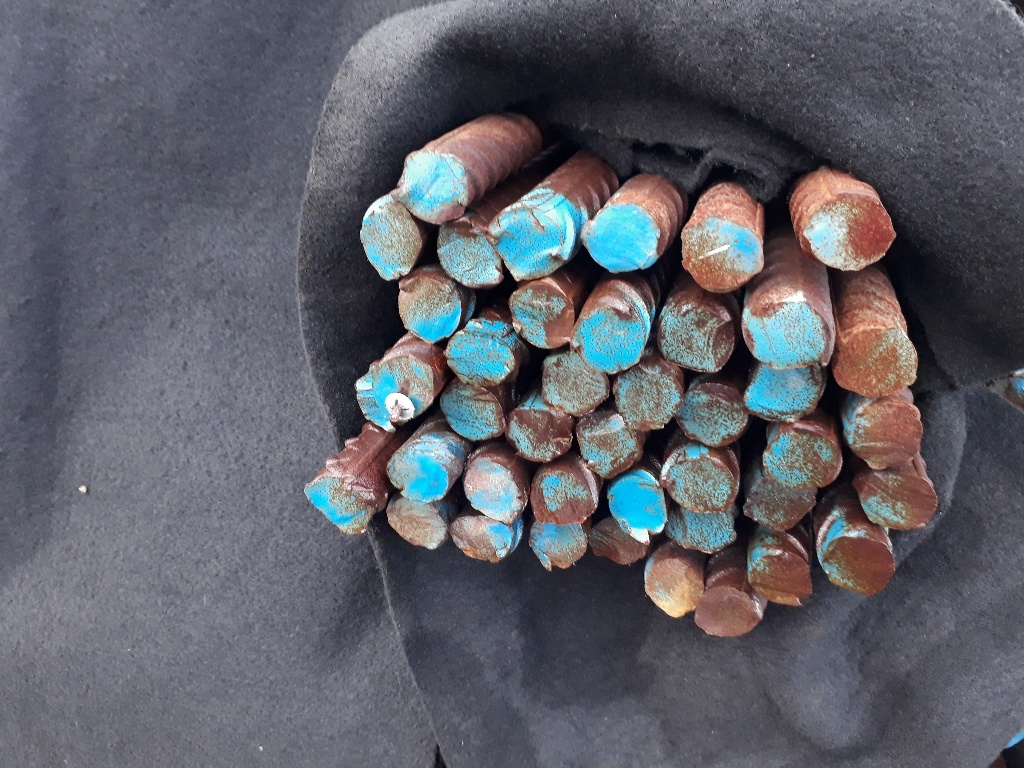dipstick: (799, 192, 898, 272), (484, 200, 569, 281), (681, 215, 764, 295), (394, 142, 473, 225), (835, 324, 921, 400), (354, 354, 435, 433), (740, 301, 832, 370), (578, 200, 660, 273), (657, 300, 733, 374), (844, 400, 923, 471), (669, 382, 752, 449), (735, 364, 827, 424), (357, 195, 420, 281), (657, 446, 739, 512), (503, 280, 578, 351), (441, 317, 517, 386), (853, 471, 937, 532), (464, 453, 530, 529), (436, 220, 508, 289), (572, 306, 646, 372), (613, 364, 684, 432), (302, 473, 377, 537), (819, 534, 895, 597), (607, 470, 670, 545), (762, 427, 842, 486), (396, 270, 460, 343), (542, 351, 611, 417), (438, 378, 506, 444), (528, 464, 598, 527), (575, 412, 642, 477), (747, 549, 819, 607), (664, 505, 741, 558), (642, 557, 706, 620), (386, 449, 455, 506), (503, 408, 574, 463), (743, 479, 814, 533), (692, 587, 764, 640), (451, 512, 524, 564), (384, 498, 451, 551), (528, 519, 589, 571), (588, 518, 650, 567)
